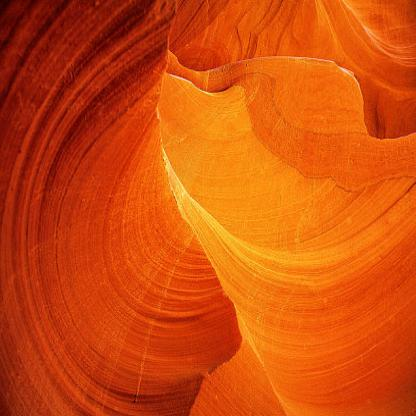Sedimentary_Sandstone: (2, 4, 415, 415)
